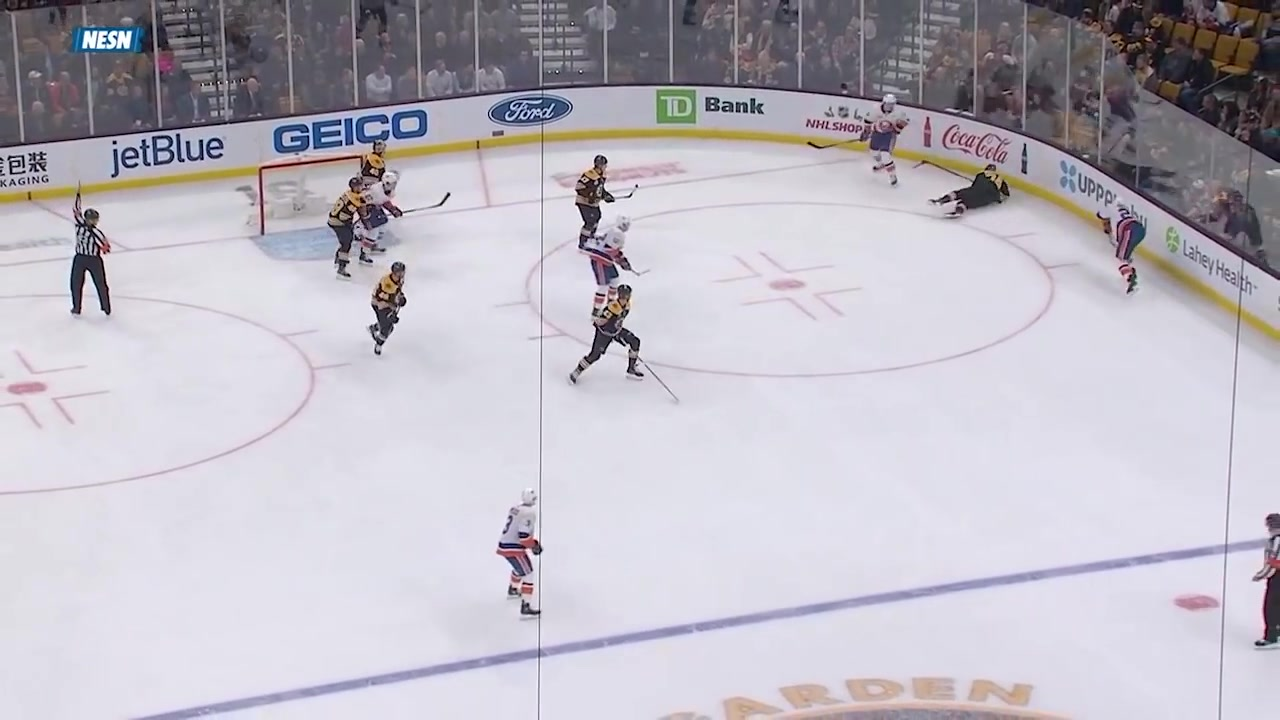Geico: (264, 105, 438, 155)
